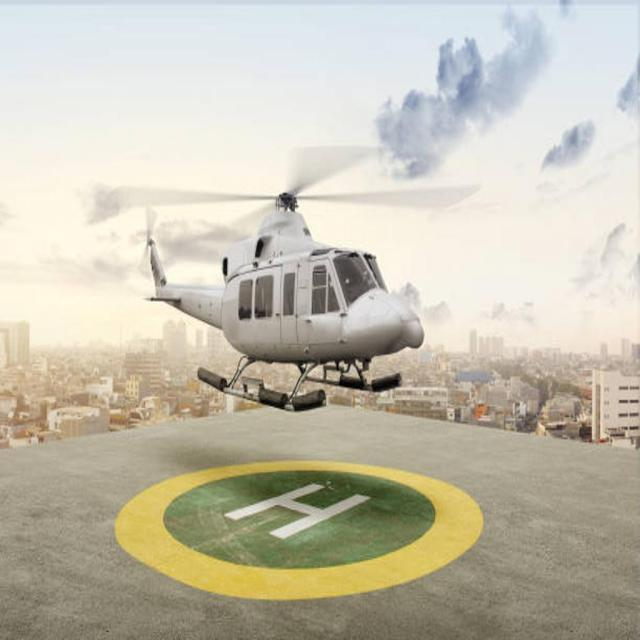helipad: (110, 456, 485, 601)
